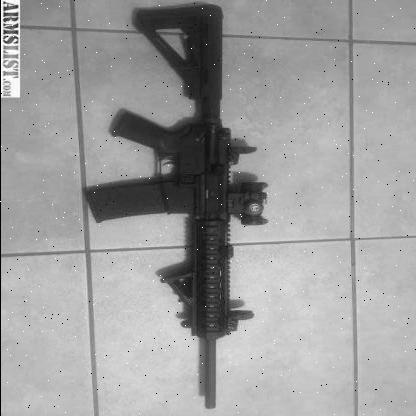rifle: (83, 0, 265, 405)
